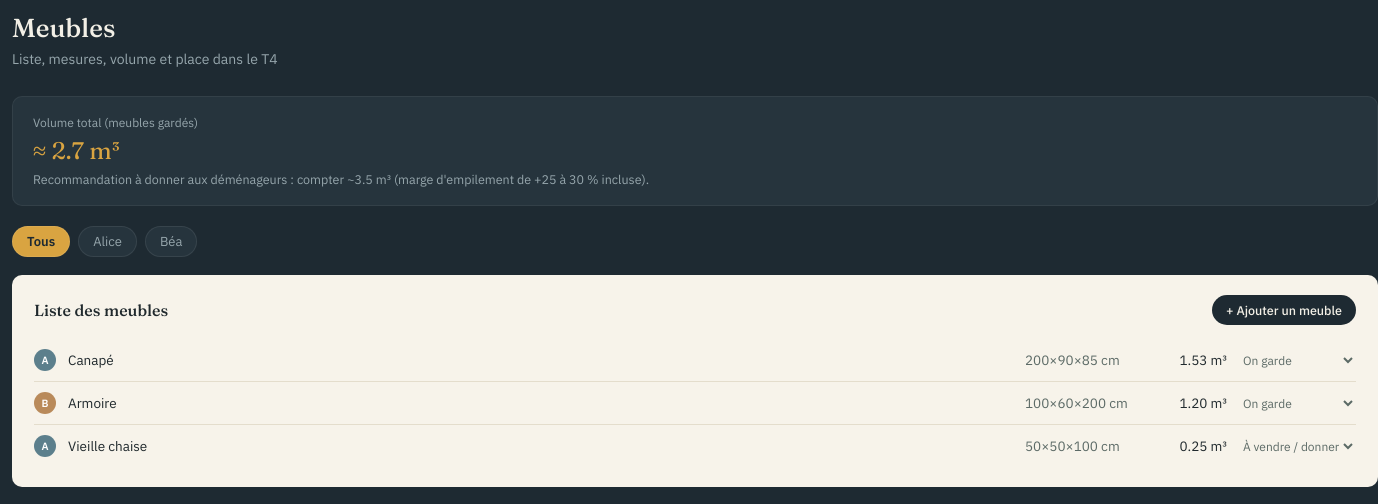
Test case: Meubles › filtre la liste par propriétaire
Click the button "Béa": (171, 242) [145,226,198,257]
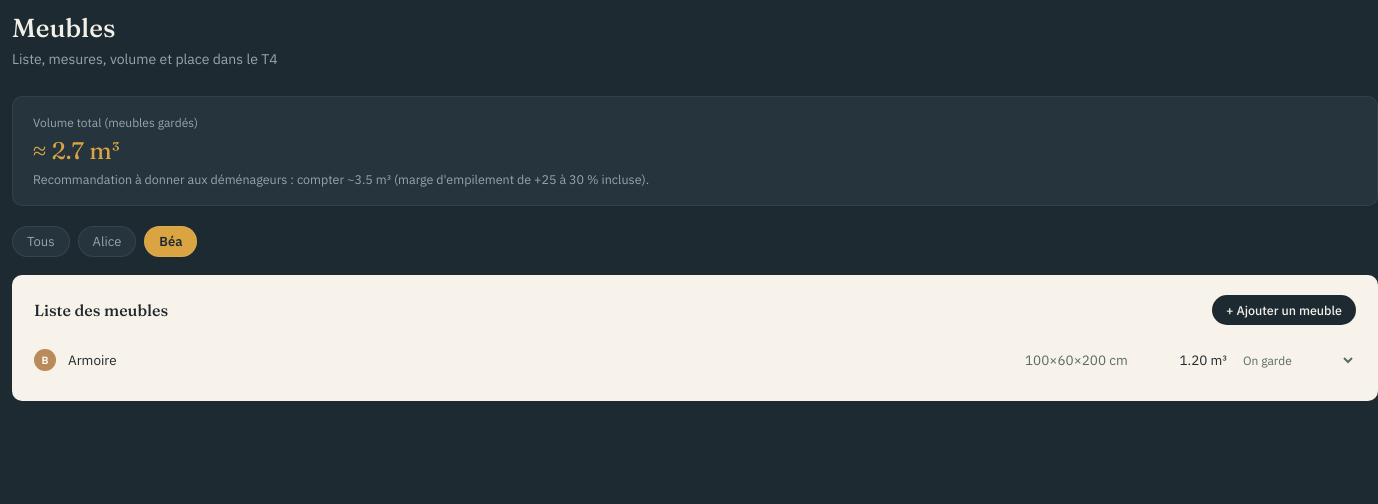
Check: the text "Armoire" is shown, box [68,351,117,369]
Check: the text "Canapé" is gone
Click the button "Tous": (41, 242) [12,226,70,257]
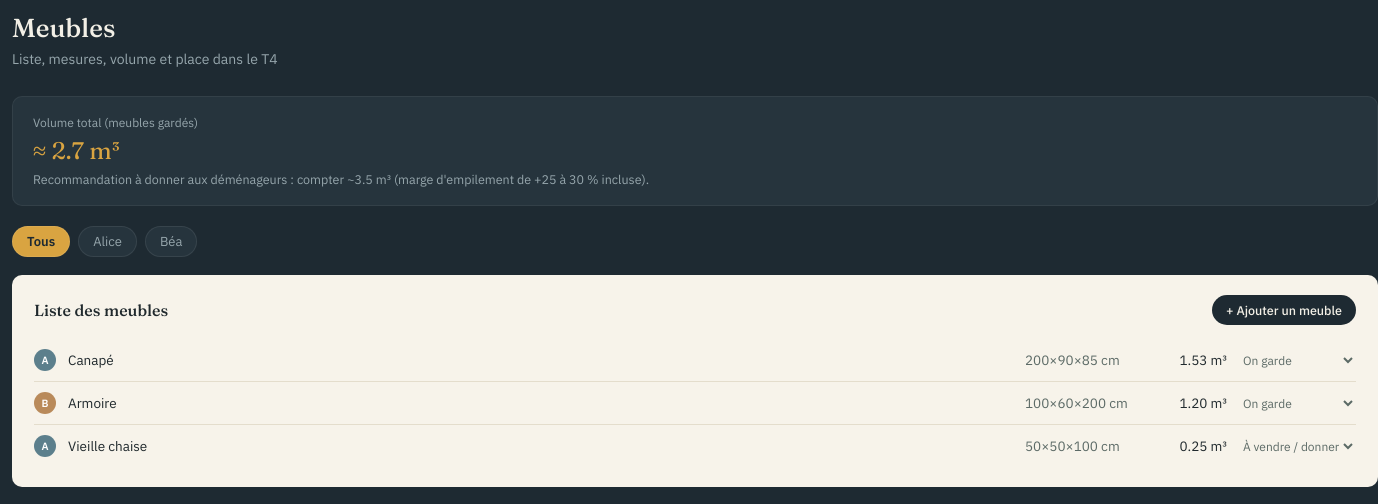
Check: the text "Canapé" is shown, box [68,351,114,369]
